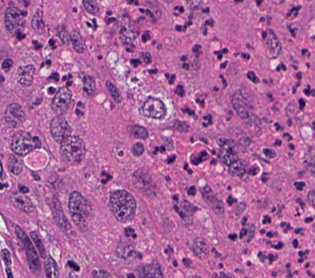nucleus: (69, 191, 90, 230), (109, 190, 135, 221), (60, 135, 84, 164), (201, 186, 223, 214), (232, 90, 252, 119), (133, 169, 155, 195), (51, 87, 71, 115), (50, 116, 70, 142), (142, 97, 165, 118), (265, 30, 280, 56), (30, 231, 45, 257), (219, 148, 237, 165), (70, 31, 84, 52), (106, 81, 120, 102), (54, 210, 69, 229), (120, 25, 135, 42), (31, 10, 43, 31), (83, 75, 95, 95), (229, 160, 245, 175), (129, 125, 147, 138), (83, 0, 98, 13), (182, 201, 195, 212), (59, 29, 69, 43), (174, 121, 188, 131), (132, 143, 143, 155), (247, 71, 258, 82), (263, 149, 275, 157), (308, 190, 314, 206), (125, 228, 135, 237), (142, 52, 150, 63), (176, 85, 184, 96), (249, 166, 258, 175), (192, 45, 200, 54), (295, 182, 304, 190), (142, 31, 149, 41), (188, 186, 195, 195), (204, 115, 211, 123), (227, 196, 234, 204), (144, 10, 153, 16), (240, 228, 246, 237), (299, 99, 304, 109), (50, 73, 57, 80), (167, 155, 174, 162), (263, 216, 270, 223), (304, 86, 310, 94), (131, 59, 138, 65), (241, 53, 249, 58), (169, 75, 174, 83), (302, 49, 308, 55), (297, 198, 302, 205), (229, 234, 235, 239), (305, 217, 312, 221), (178, 6, 183, 11), (221, 62, 226, 67), (183, 63, 188, 68), (176, 26, 182, 30), (48, 88, 54, 92), (275, 123, 279, 129), (242, 217, 246, 223), (293, 240, 297, 246), (262, 31, 265, 38), (181, 56, 185, 60), (173, 196, 177, 200), (151, 69, 156, 72), (257, 1, 261, 4), (222, 49, 226, 52), (276, 140, 279, 144)
